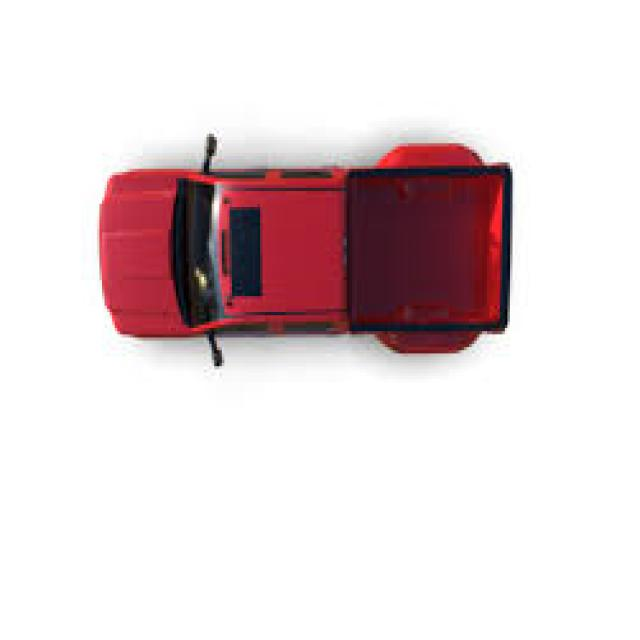truck: (99, 164, 510, 355)
